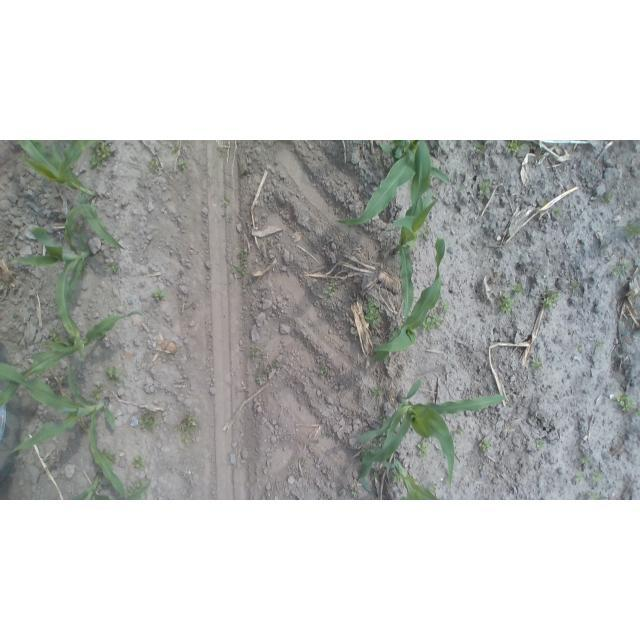Maize: (0, 358, 128, 497), (359, 380, 508, 489), (1, 307, 147, 410), (11, 197, 89, 359), (16, 141, 127, 252), (371, 236, 450, 365), (336, 146, 450, 226), (387, 141, 435, 323), (366, 452, 439, 500), (60, 470, 145, 500), (377, 140, 414, 158)
Weeds: (176, 411, 198, 446), (88, 142, 113, 171), (613, 391, 640, 417), (229, 246, 251, 276), (420, 310, 445, 335), (539, 285, 562, 311), (139, 411, 161, 433), (365, 298, 381, 327), (498, 293, 518, 316), (322, 280, 343, 299), (611, 257, 633, 275), (106, 366, 123, 387), (130, 454, 148, 473), (126, 478, 146, 495), (359, 442, 383, 456), (529, 352, 545, 372), (624, 219, 640, 239), (506, 141, 526, 156), (100, 448, 118, 464), (248, 347, 266, 362), (413, 442, 429, 458), (578, 453, 596, 467), (85, 388, 104, 401), (477, 180, 492, 196), (151, 288, 168, 302), (145, 157, 162, 171), (391, 469, 406, 484), (439, 299, 454, 314), (266, 361, 284, 373), (107, 260, 120, 275), (472, 143, 488, 155), (48, 330, 62, 343), (254, 371, 266, 386), (318, 429, 334, 440), (480, 438, 491, 454), (512, 283, 525, 296), (369, 386, 383, 398), (535, 439, 547, 452), (571, 280, 582, 294), (317, 364, 329, 376), (595, 338, 607, 350), (603, 193, 616, 204), (221, 195, 232, 207), (299, 458, 310, 470), (591, 470, 602, 482), (178, 158, 188, 171), (550, 210, 564, 219), (379, 413, 390, 424), (575, 343, 586, 354), (419, 226, 430, 237), (588, 490, 600, 500), (218, 147, 228, 158), (574, 474, 585, 484), (245, 282, 254, 294), (222, 211, 232, 221), (430, 484, 439, 495), (168, 148, 179, 156), (302, 337, 310, 348), (456, 427, 464, 438), (350, 490, 359, 498), (371, 473, 378, 482)
